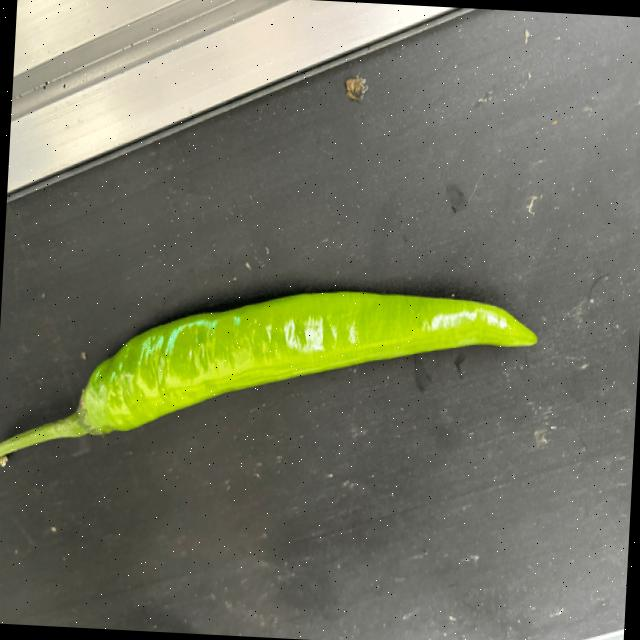chili: (70, 288, 540, 437)
